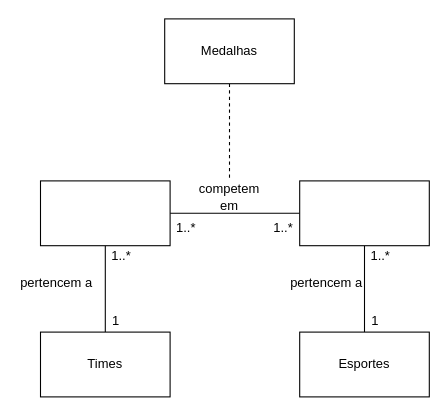
The diagram is 448 pixels wide and 416 high, and some of its shapes have lost their labels. The shapes that lost their labels are listed below. From the top down, each one's centre as x and y in pixels, then its label:
the point at 104,213: Atletas
the point at 364,213: Modalidades
